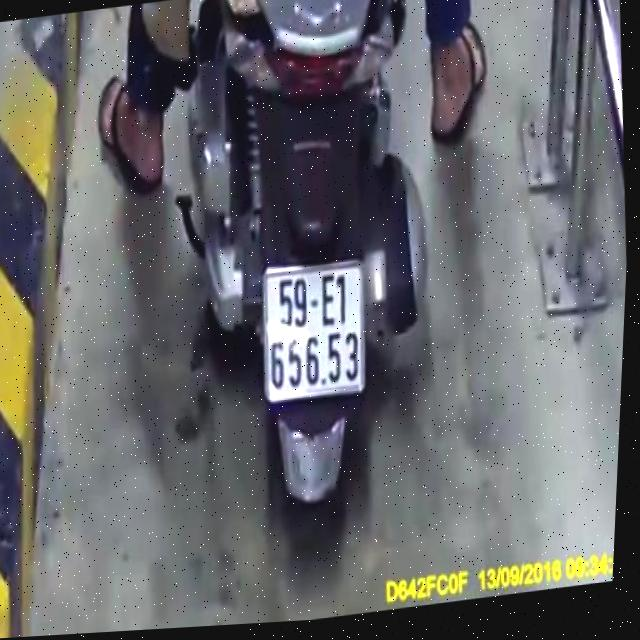motorcycle: (158, 0, 466, 553)
plate: (255, 250, 372, 407)
